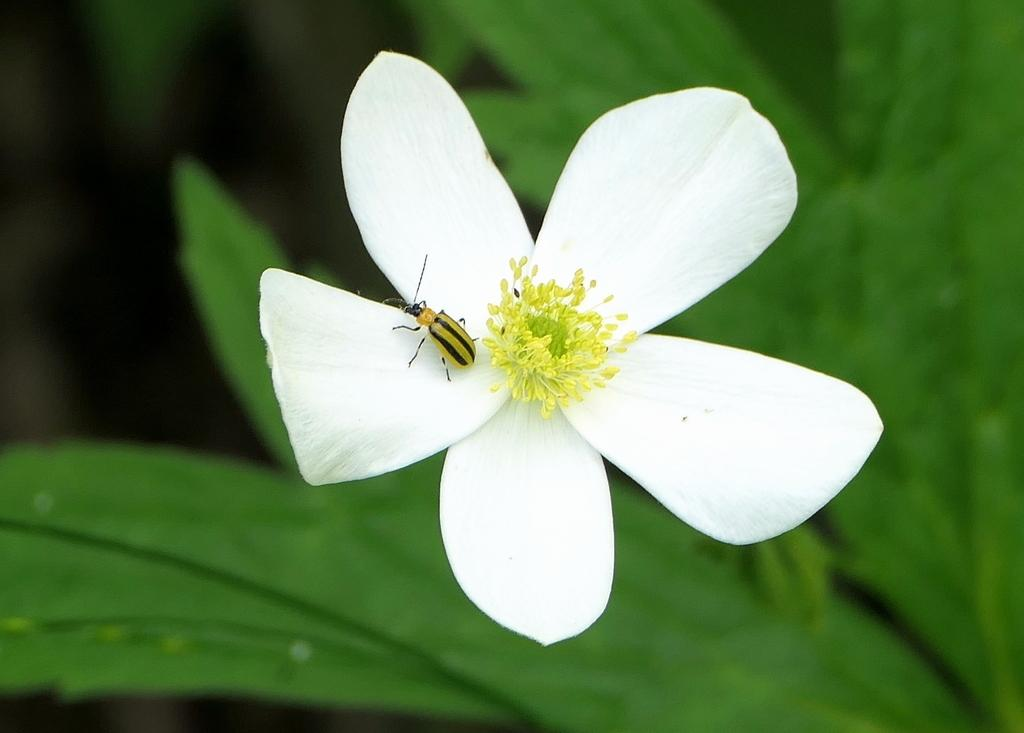potato_beetle: (353, 241, 499, 393)
